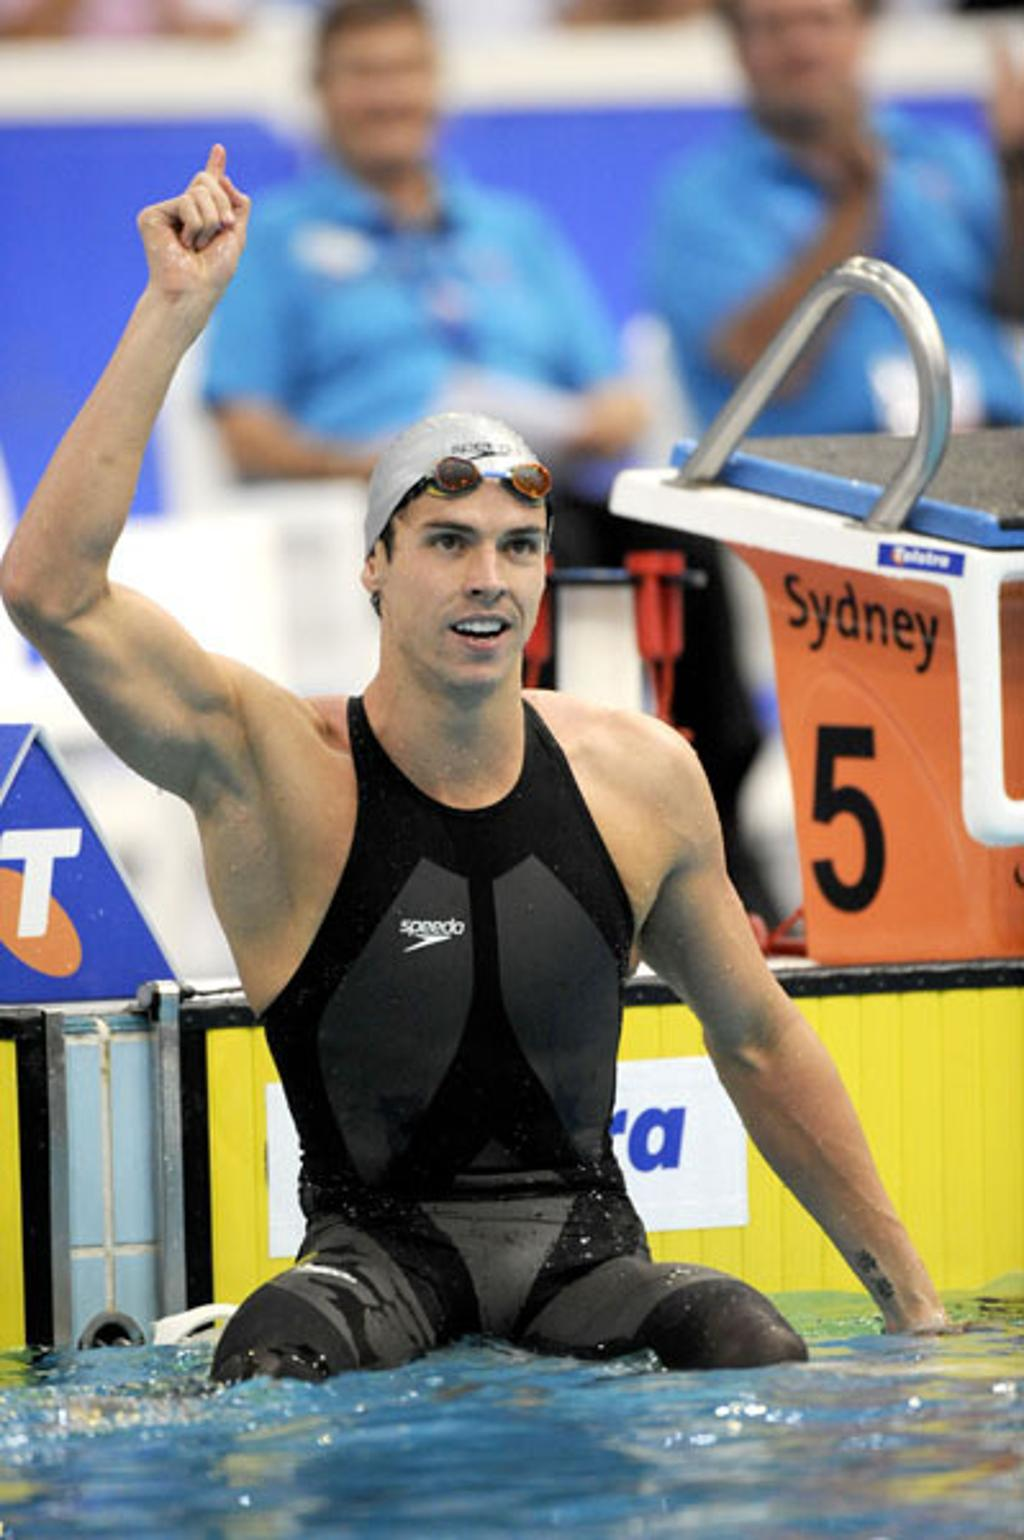face: (376, 458, 551, 678), (322, 24, 442, 160), (741, 0, 861, 108)
